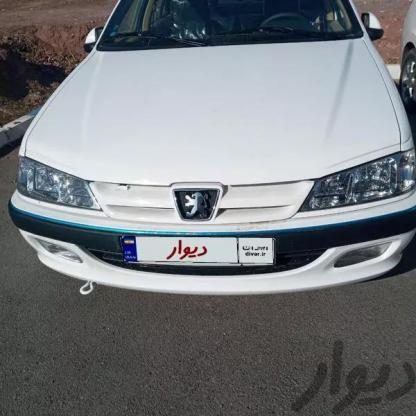Car: (0, 0, 416, 297)
